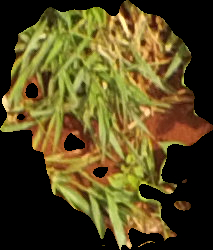grass: (1, 3, 212, 247)
